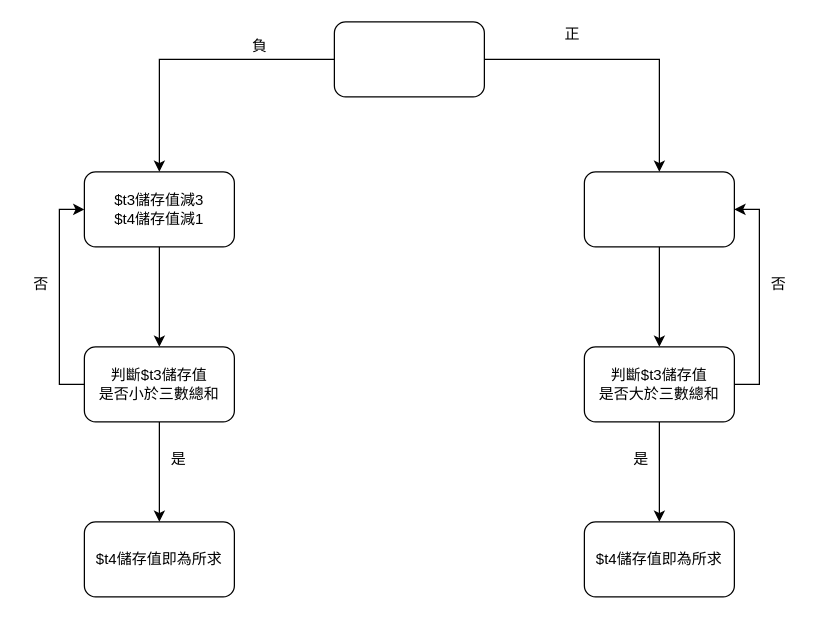
The diagram is 818 pixels wide and 619 high, and some of its shapes have lost their labels. Here are the shapes that lost their labels. From the top down, the centre of each, then its label:
point (408, 59): 將題目給的數字相加 並判斷正負
point (658, 209): $t3儲存值加3 $t4儲存值加1
